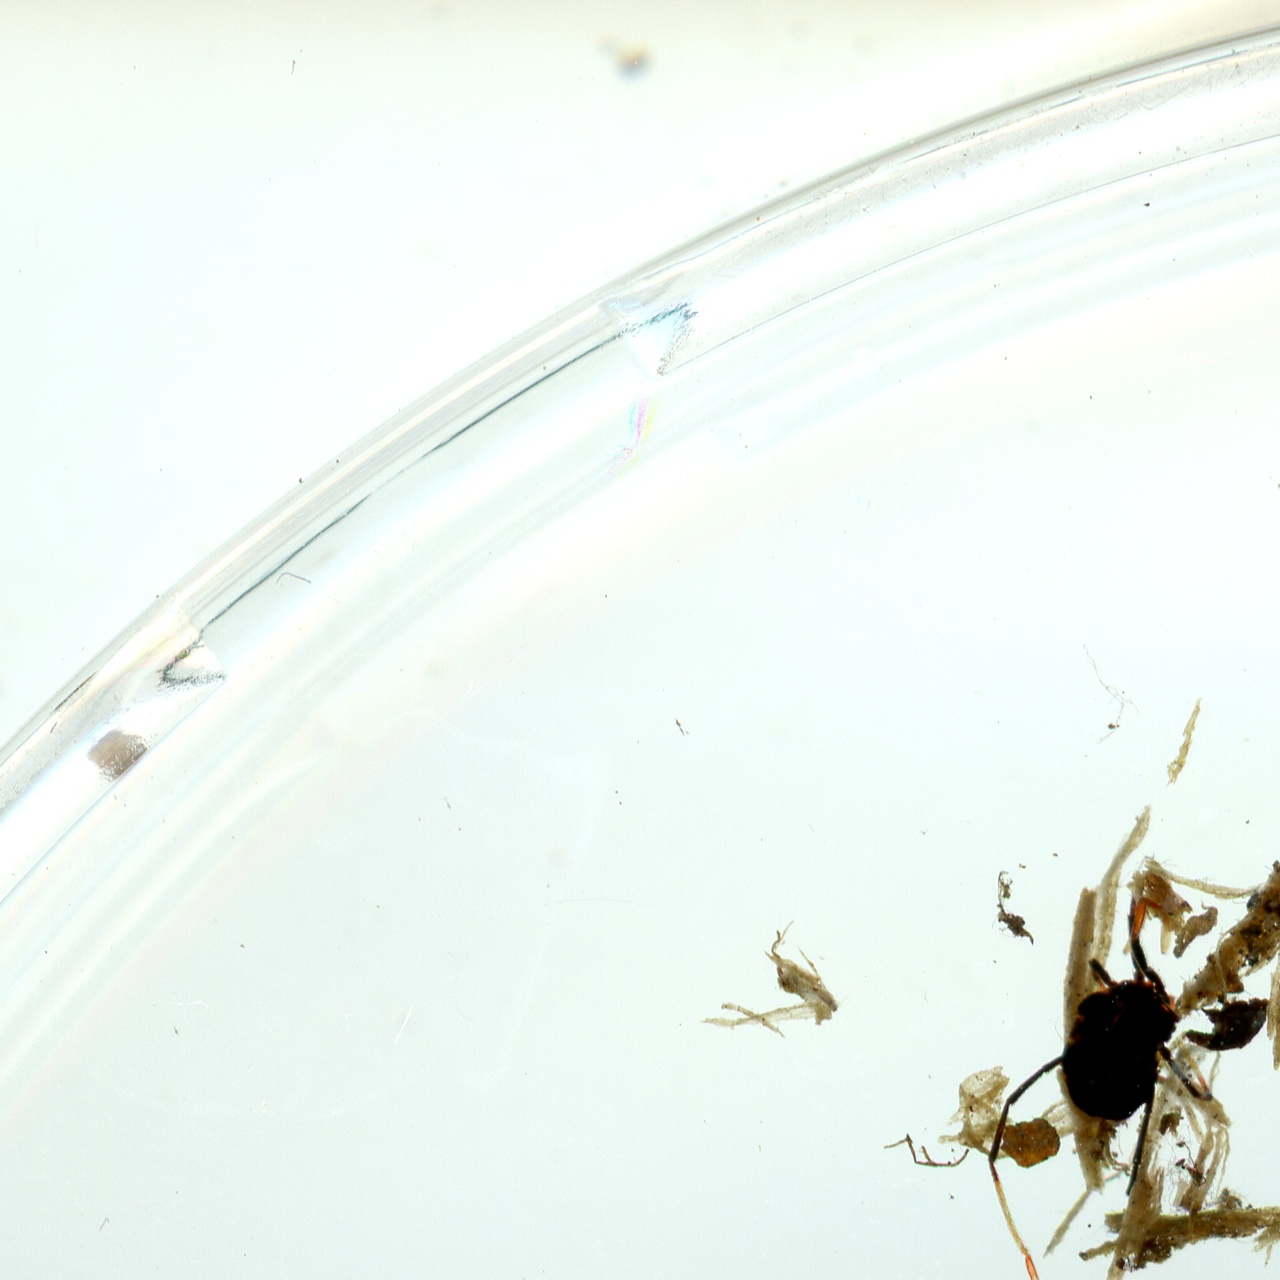arthropod: (982, 858, 1216, 1280)
